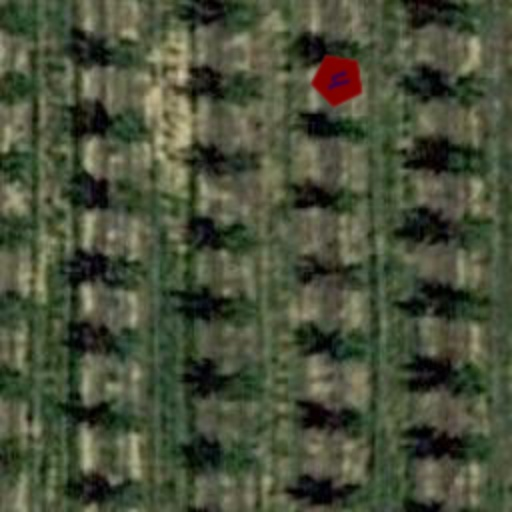pentagon: (300, 42, 376, 118)
